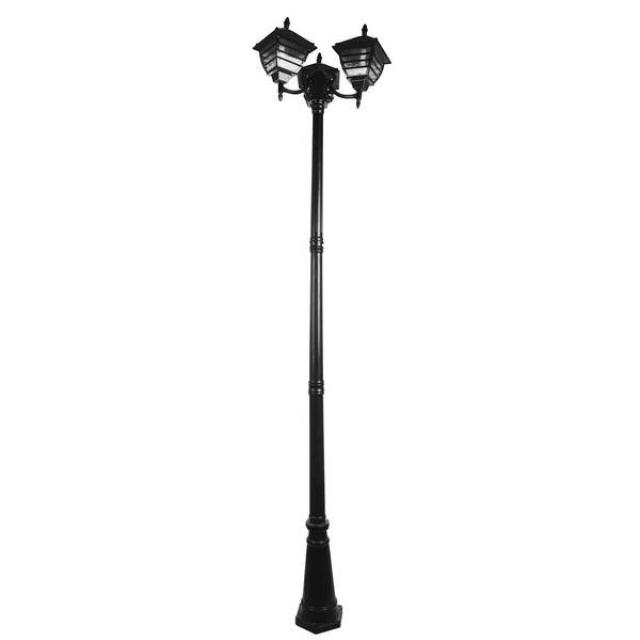Pole: (254, 17, 391, 635)
